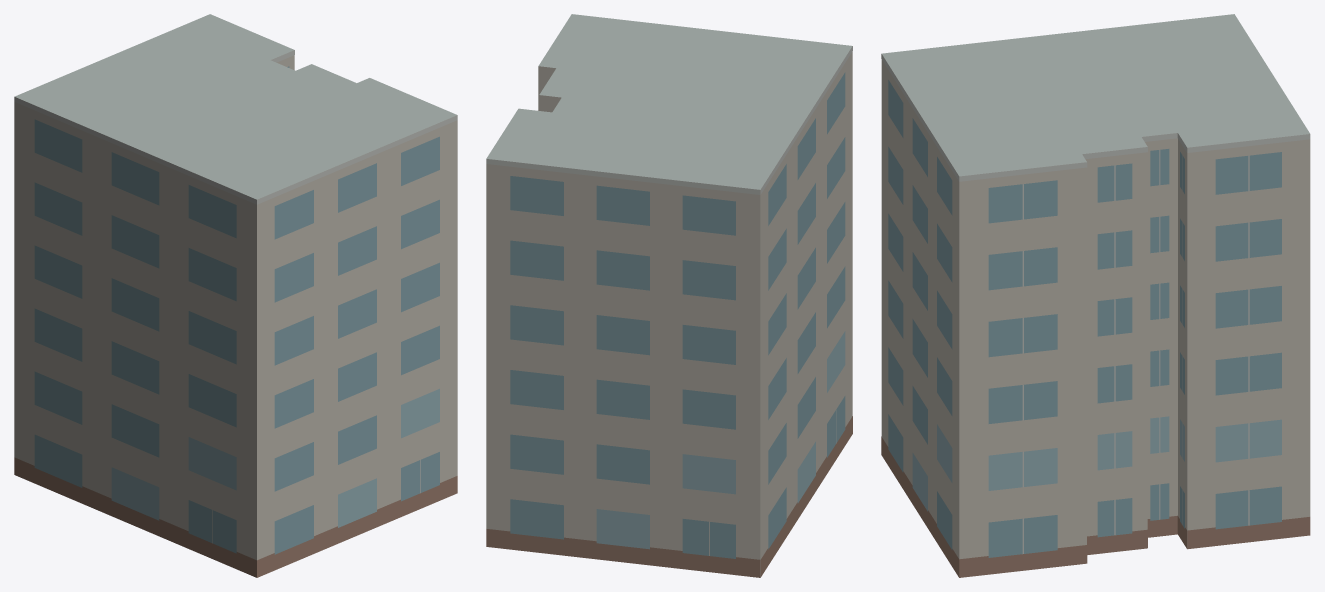
File: survey-upis-32671248.glb
3 renders of one model, left to right at view 1: azimuth 30°, elevation 25°; view 2: azimuth 150°, elevation 25°; view 3: azimuth 270°, elevation 25°, orthographic. The views are drawn at different scales.
Visible parts, largest first — view 1: survey-upis-32671248.tmp; view 2: survey-upis-32671248.tmp; view 3: survey-upis-32671248.tmp.
Part boxes in pixels (x1,y1,x2,y2): survey-upis-32671248.tmp: (14, 14, 457, 577); survey-upis-32671248.tmp: (486, 14, 852, 577); survey-upis-32671248.tmp: (881, 14, 1310, 577).
Size of the model in its own units: 15.89 by 18.3 by 17.73.
